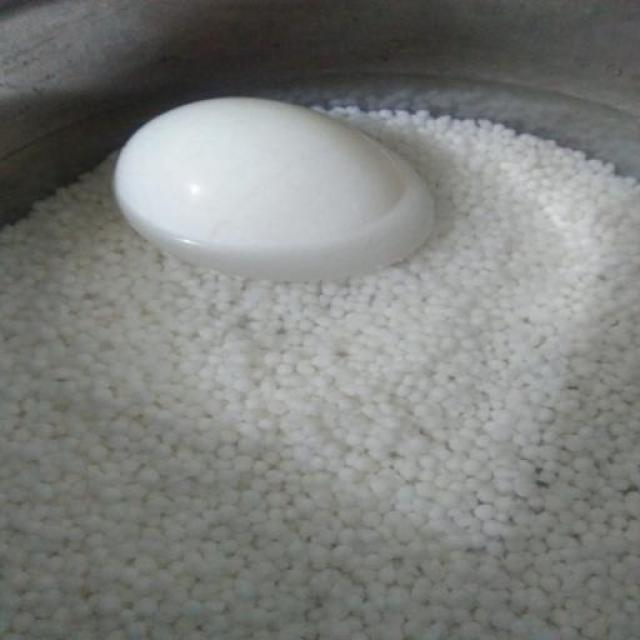telur: (109, 95, 437, 280)
